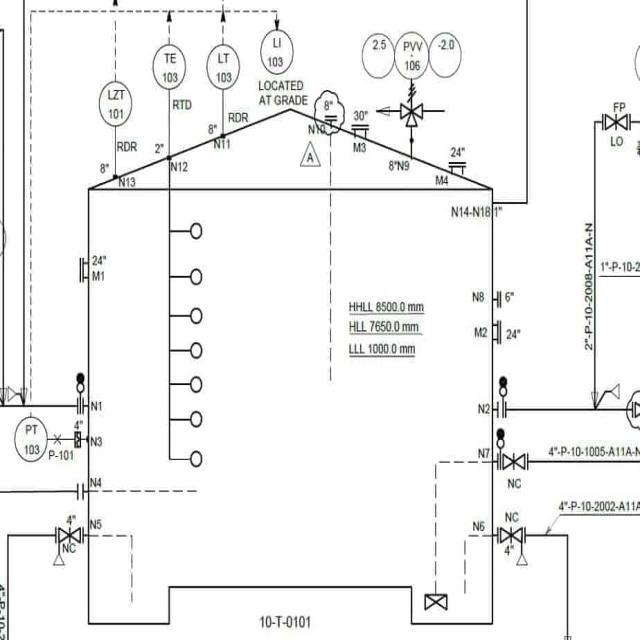3 Way Gate Valve: (396, 98, 428, 138)
Diaphragm Valve: (422, 590, 449, 614)
Needle Valve: (495, 522, 520, 549), (58, 526, 82, 545), (502, 454, 528, 470)
